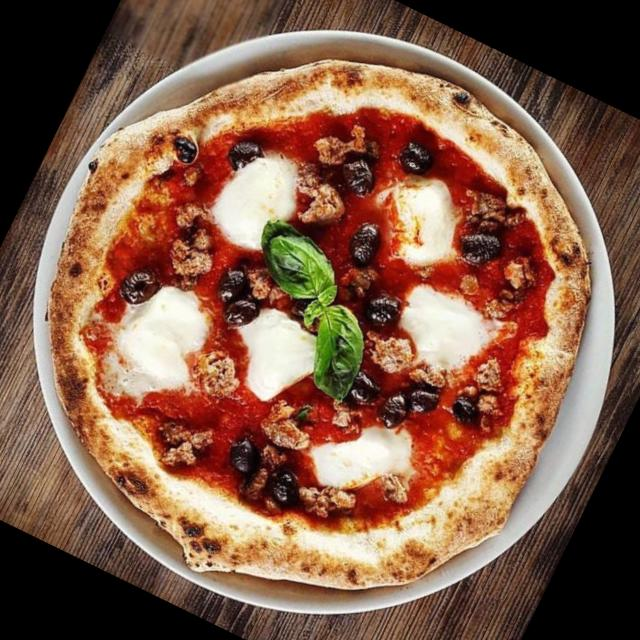black_olives: (199, 264, 270, 334), (452, 220, 509, 276), (114, 258, 168, 314), (331, 147, 383, 201), (357, 284, 408, 338), (342, 217, 390, 270), (266, 466, 313, 518), (391, 134, 438, 180), (398, 378, 444, 424), (226, 132, 268, 180), (374, 388, 412, 434), (225, 434, 262, 476), (347, 368, 382, 406), (448, 391, 482, 425)
pizza: (44, 59, 593, 594)
